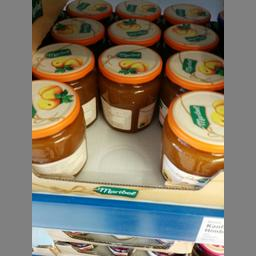jam: (158, 87, 223, 190), (97, 44, 162, 132), (31, 79, 88, 177), (31, 42, 94, 124)
